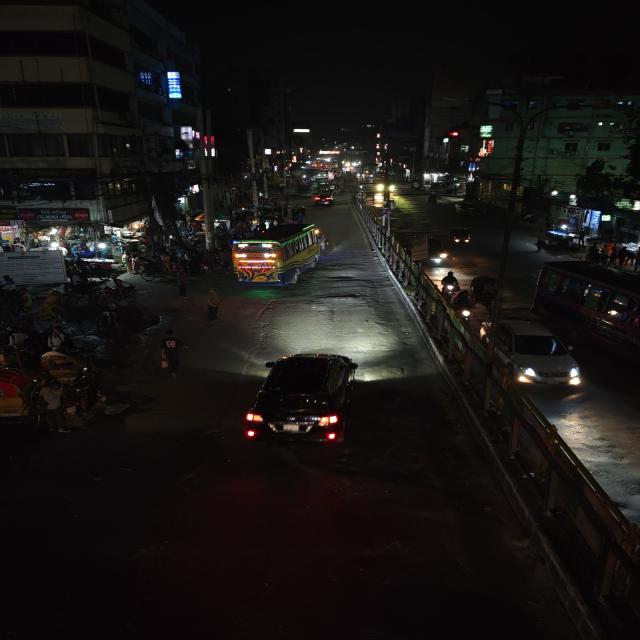bus: (528, 257, 640, 376), (227, 221, 330, 287)
car: (244, 347, 365, 447), (481, 316, 583, 392), (411, 230, 450, 270), (312, 192, 336, 207)
cng: (447, 225, 475, 249)
motorcycle: (437, 269, 462, 297)
pedestrian: (150, 328, 192, 381), (201, 288, 227, 324), (42, 326, 66, 351), (173, 268, 192, 298)
rickshaw: (0, 360, 47, 430), (37, 348, 99, 390), (23, 286, 75, 326), (467, 273, 505, 312), (132, 256, 172, 284)
